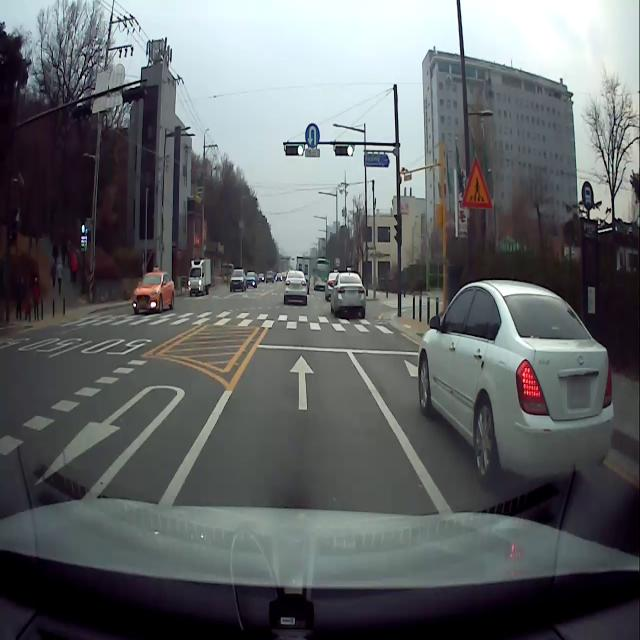Green Light: (346, 144, 354, 156), (297, 144, 304, 156)
